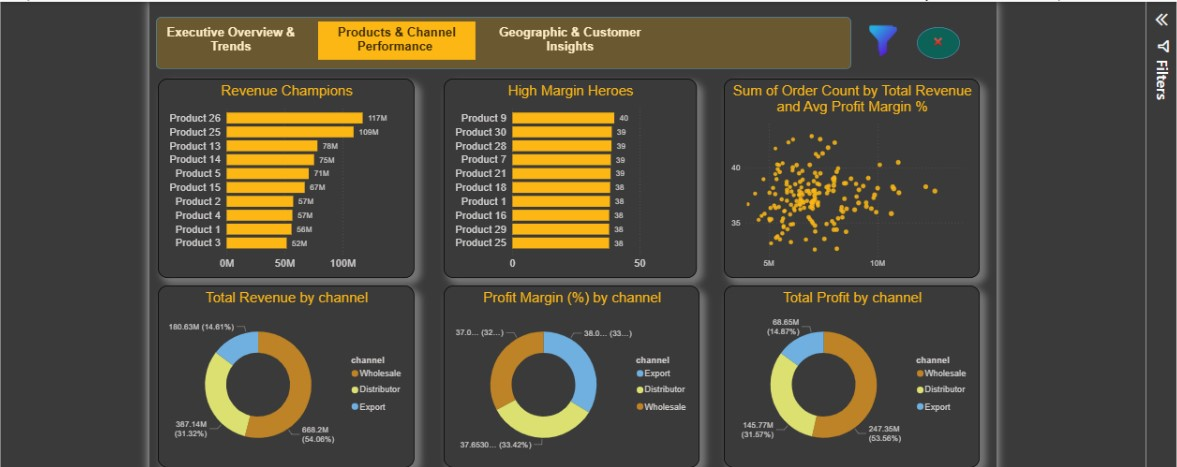

This screenshot's page, from the dashboard's own definition file:
{"tool":"powerbi","page":{"name":"Products & Channel Performance","canvas":[1280,720],"ordinal":1},"visuals":[{"type":"barChart","title":"Revenue Champions","fields":{"Category":["Sales_data(EDA Exported).product name"],"Y":["custom measures.Total Revenue"]},"box":[12.8,116.2,388.3,301.9],"z":0},{"type":"barChart","title":"High Margin Heroes","fields":{"Category":["Sales_data(EDA Exported).product name"],"Y":["custom measures.Profit Margin (%)"]},"box":[445,116.2,382.7,301.9],"z":1000},{"type":"scatterChart","fields":{"Y":["Customer.Avg Profit Margin %"],"Size":["Sum(Customer.Order Count)"],"X":["Customer.Total Revenue"]},"box":[868.8,116.2,386.9,301.9],"z":2000},{"type":"donutChart","fields":{"Category":["Sales_data(EDA Exported).channel"],"Y":["custom measures.Total Revenue"]},"box":[12.8,429.4,388.3,276.4],"z":3000},{"type":"donutChart","fields":{"Category":["Sales_data(EDA Exported).channel"],"Y":["custom measures.Total Profit"]},"box":[868.8,429.4,386.9,276.4],"z":4000},{"type":"donutChart","fields":{"Category":["Sales_data(EDA Exported).channel"],"Y":["custom measures.Profit Margin (%)"]},"box":[445,429.4,386.9,276.4],"z":5000},{"type":"textbox","box":[9.9,29.8,226.8,58.1],"z":6000},{"type":"textbox","box":[255.1,29.8,238.1,58.1],"z":7000},{"type":"textbox","box":[514.5,29.8,243.8,58.1],"z":8000},{"type":"image","box":[1081.4,22.7,51,65.2],"z":9000},{"type":"shape","box":[9.9,22.7,1051.7,79.4],"z":10000},{"type":"actionButton","box":[255.1,31.2,236.7,56.7],"z":11000},{"type":"actionButton","box":[514.5,31.2,249.4,56.7],"z":12000},{"type":"actionButton","box":[12.8,31.2,223.9,58.1],"z":13000},{"type":"image","box":[1081.4,29.8,56.7,60.9],"z":14000},{"type":"shape","box":[1160.8,38.3,65.2,48.2],"z":15000},{"type":"image","box":[1169.3,46.8,46.8,26.9],"z":16000}]}

Visuals, with their boxes on the page's 1280x720 design canvas (x1, y1, x2, y2). These are canvas units, not pixel positions in the 1177x467 screenshot, which may show the page scaled, cropped or inside an application window:
"Revenue Champions" barChart: {"left": 13, "top": 116, "right": 401, "bottom": 418}
"High Margin Heroes" barChart: {"left": 445, "top": 116, "right": 828, "bottom": 418}
scatterChart - Customer.Avg Profit Margin % x Sum(Customer.Order Count): {"left": 869, "top": 116, "right": 1256, "bottom": 418}
donutChart - Sales_data(EDA Exported).channel x custom measures.Total Revenue: {"left": 13, "top": 429, "right": 401, "bottom": 706}
donutChart - Sales_data(EDA Exported).channel x custom measures.Total Profit: {"left": 869, "top": 429, "right": 1256, "bottom": 706}
donutChart - Sales_data(EDA Exported).channel x custom measures.Profit Margin (%): {"left": 445, "top": 429, "right": 832, "bottom": 706}
textbox: {"left": 10, "top": 30, "right": 237, "bottom": 88}
textbox: {"left": 255, "top": 30, "right": 493, "bottom": 88}
textbox: {"left": 514, "top": 30, "right": 758, "bottom": 88}
image: {"left": 1081, "top": 23, "right": 1132, "bottom": 88}
shape: {"left": 10, "top": 23, "right": 1062, "bottom": 102}
actionButton: {"left": 255, "top": 31, "right": 492, "bottom": 88}
actionButton: {"left": 514, "top": 31, "right": 764, "bottom": 88}
actionButton: {"left": 13, "top": 31, "right": 237, "bottom": 89}
image: {"left": 1081, "top": 30, "right": 1138, "bottom": 91}
shape: {"left": 1161, "top": 38, "right": 1226, "bottom": 86}
image: {"left": 1169, "top": 47, "right": 1216, "bottom": 74}
